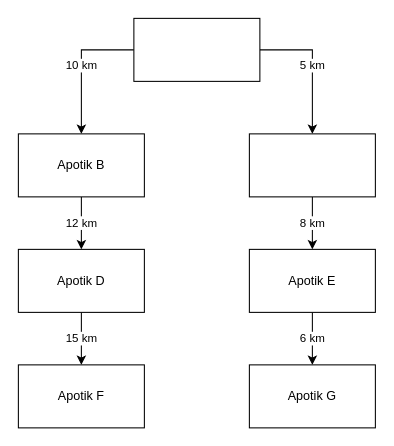
The diagram is 394 pixels wide and 446 high, and some of its shapes have lost their labels. The shapes that lost their labels are listed below. From the top down, each one's centre as x and y in pixels, then its label:
[196,49]: Apotik A
[311,165]: Apotik C
